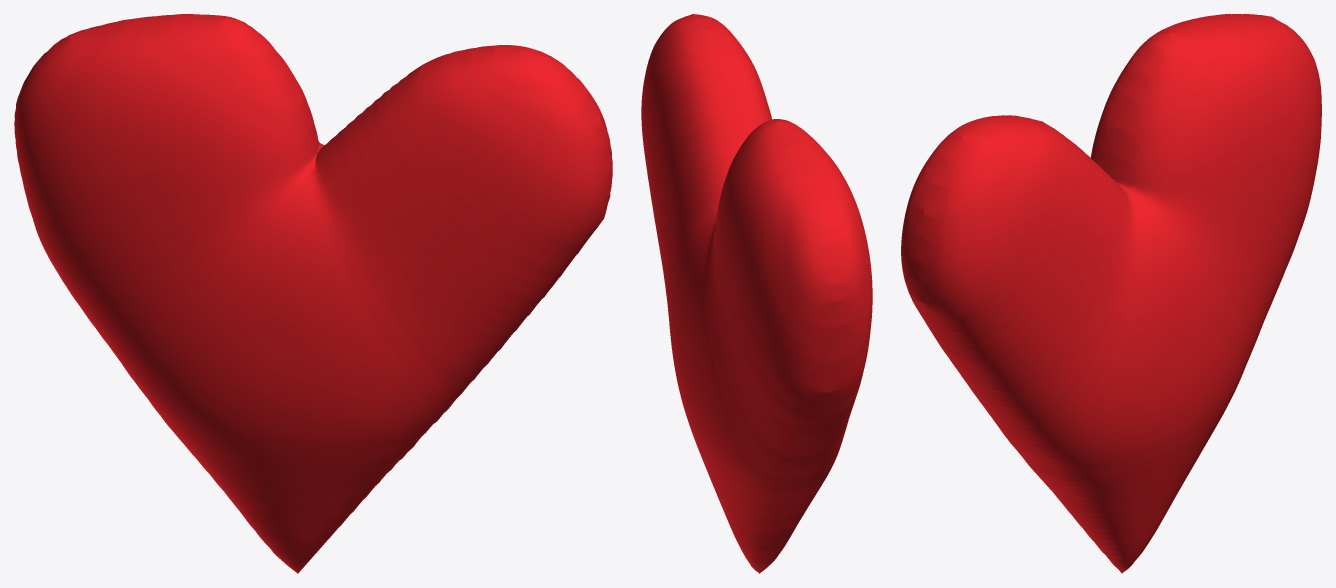
The model's file is Corazón.fbx.
3 views of the same model, side by side, from view 1: azimuth 30°, elevation 25°; view 2: azimuth 150°, elevation 25°; view 3: azimuth 270°, elevation 25° (orthographic). The views are drawn at different scales.
Visible parts, largest first — view 1: root; view 2: root; view 3: root.
Boxes of the visible parts, x1=… form: root: x1=14, y1=14, x2=612, y2=573; root: x1=641, y1=14, x2=872, y2=573; root: x1=901, y1=14, x2=1321, y2=573.
Size of the model in its own units: 1.15 by 1.46 by 1.07.
